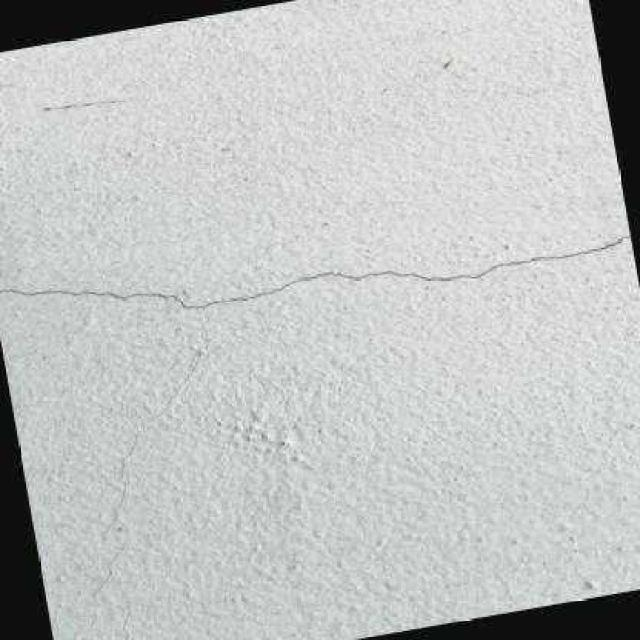D00: (0, 231, 632, 314)
